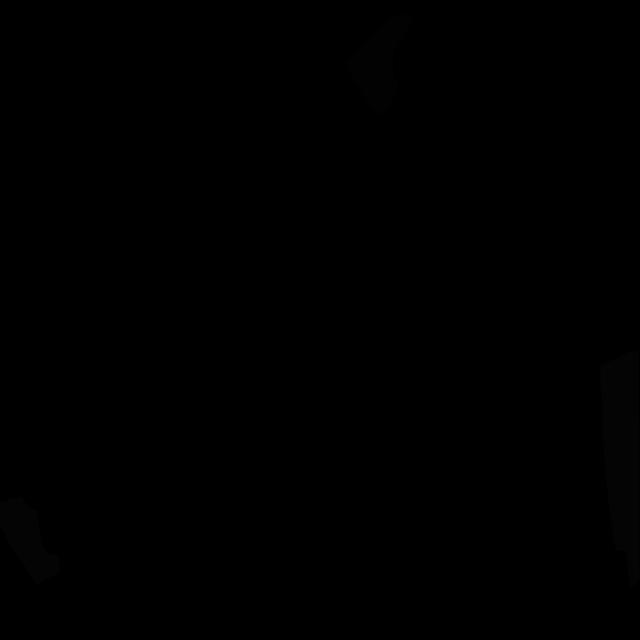cardboard: (346, 13, 412, 115)
soft_plastic: (600, 351, 640, 588), (0, 496, 60, 585)
